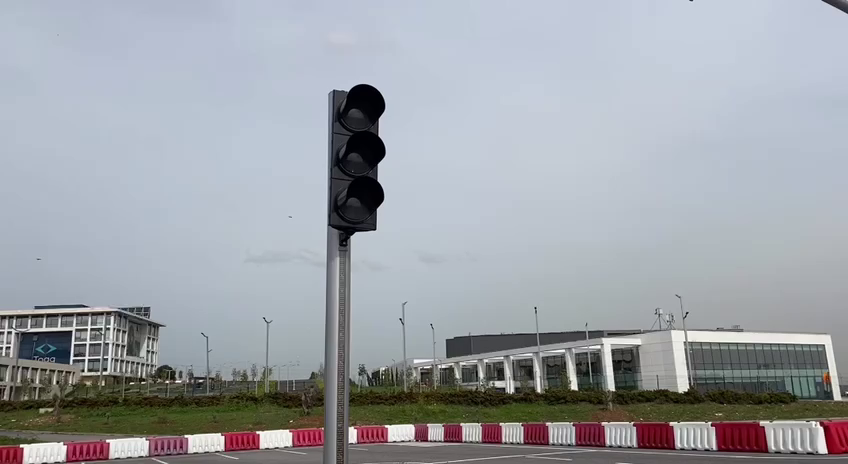trafficLight: (323, 79, 391, 242)
